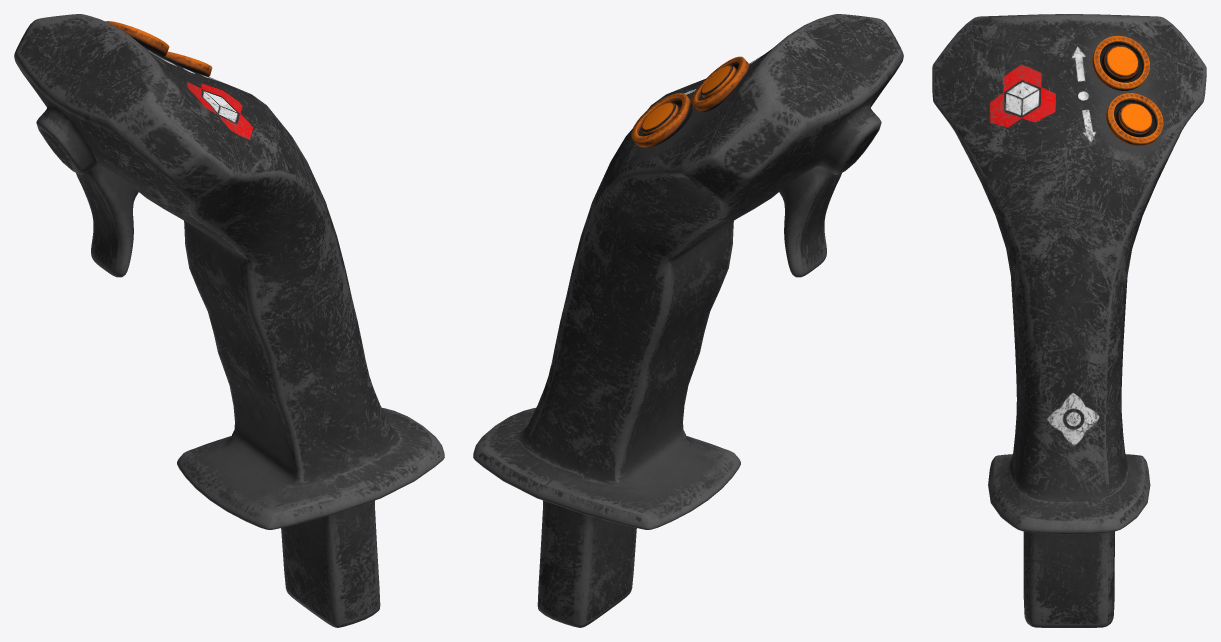
The model's file is joystick.fbx.
3 renders of one model, left to right at view 1: azimuth 30°, elevation 25°; view 2: azimuth 150°, elevation 25°; view 3: azimuth 270°, elevation 25°, orthographic. The views are drawn at different scales.
Parts seen in each view (by area): view 1: Plane, Plane.001, Circle.001; view 2: Plane, Plane.001, Circle.002, Circle.001; view 3: Plane, Circle.001, Circle.002.
Part boxes in pixels (bbox=[...]): Plane: bbox=[14, 14, 444, 627]; Plane.001: bbox=[76, 166, 138, 277]; Circle.001: bbox=[105, 21, 169, 57]; Plane: bbox=[473, 14, 903, 627]; Plane.001: bbox=[779, 166, 841, 277]; Circle.002: bbox=[631, 93, 692, 147]; Circle.001: bbox=[691, 56, 749, 111]; Plane: bbox=[932, 14, 1206, 627]; Circle.001: bbox=[1092, 35, 1149, 90]; Circle.002: bbox=[1106, 93, 1163, 145].
Size of the model in its own units: 269 by 419 by 200.
Materials: 2 (2 with a texture image).
